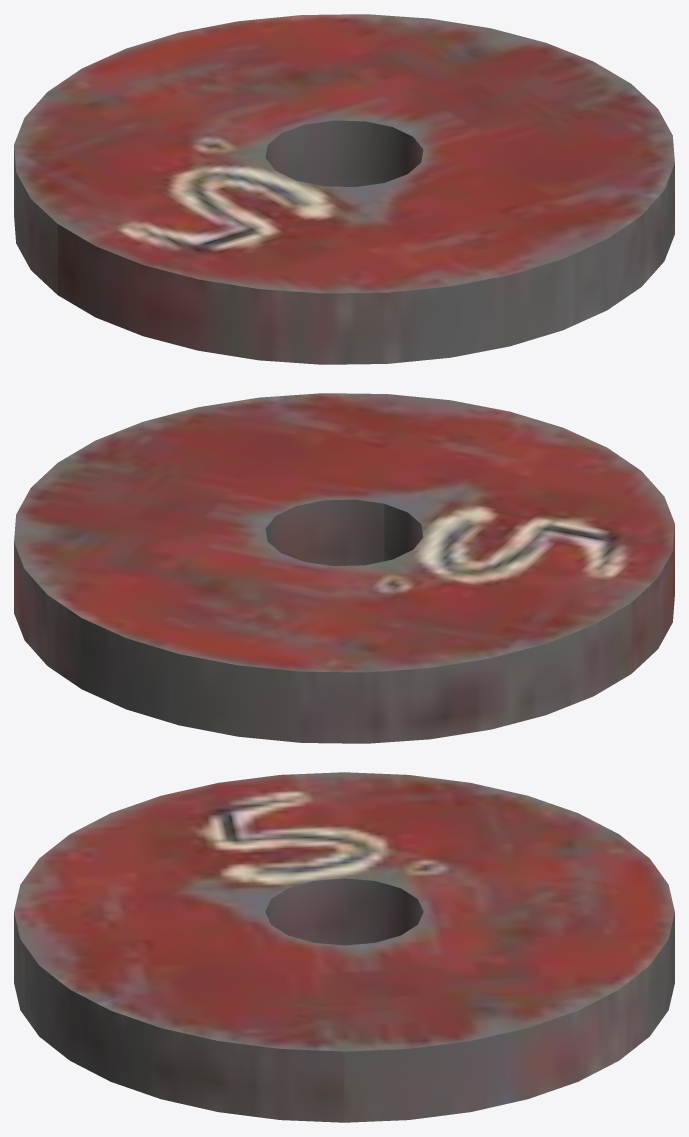
File: poker_chip_v5_red.glb
3 renders of one model, top to bottom at view 1: azimuth 30°, elevation 25°; view 2: azimuth 150°, elevation 25°; view 3: azimuth 270°, elevation 25°, orthographic.
Visible parts, largest first — view 1: v5_red_LOD0; view 2: v5_red_LOD0; view 3: v5_red_LOD0.
Boxes of the visible parts, x1,y1,x2,y2 form: v5_red_LOD0: (14, 14, 674, 364); v5_red_LOD0: (14, 393, 674, 743); v5_red_LOD0: (14, 772, 674, 1122).
Bounding box in the file's own units: 0.0442 × 0.00525 × 0.0442.
Materials: 1 (1 with a texture image).
